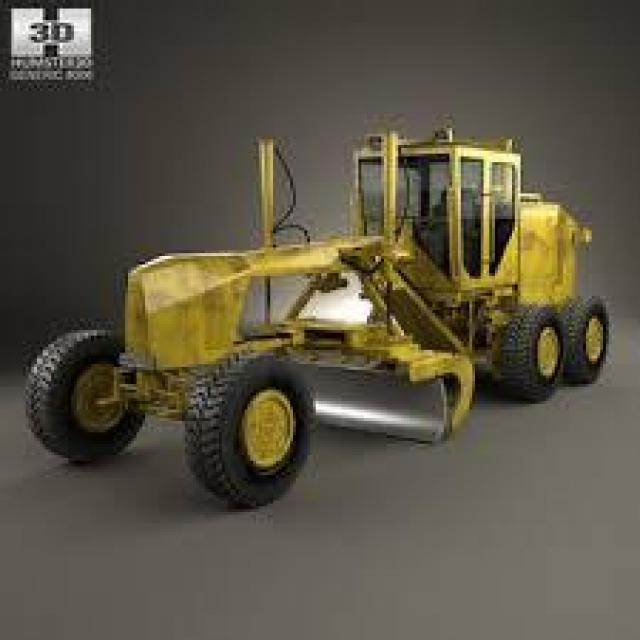Grader: (31, 88, 620, 492)
